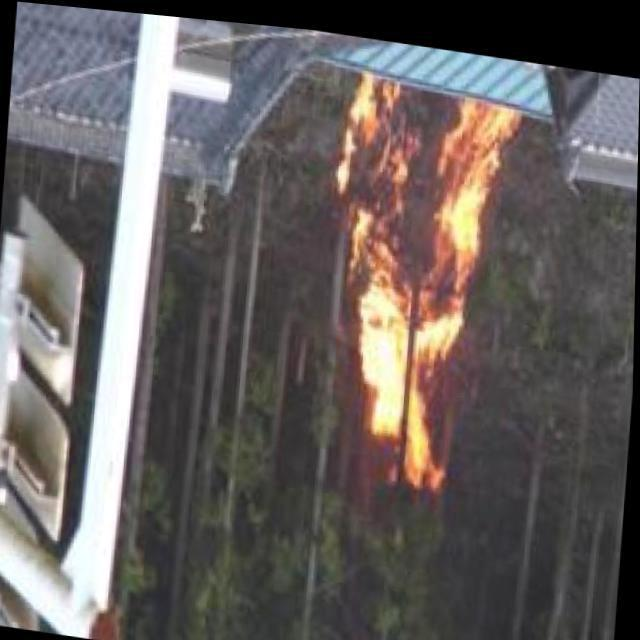fire: (320, 66, 512, 478)
